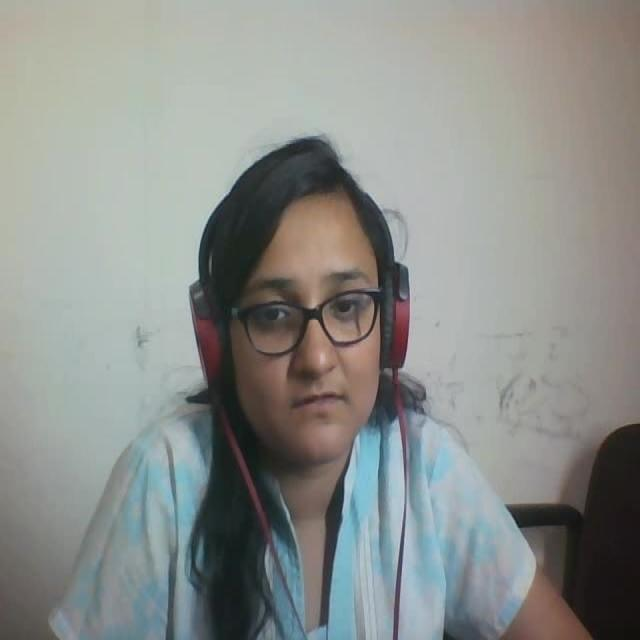Engaged: (150, 111, 453, 492)
